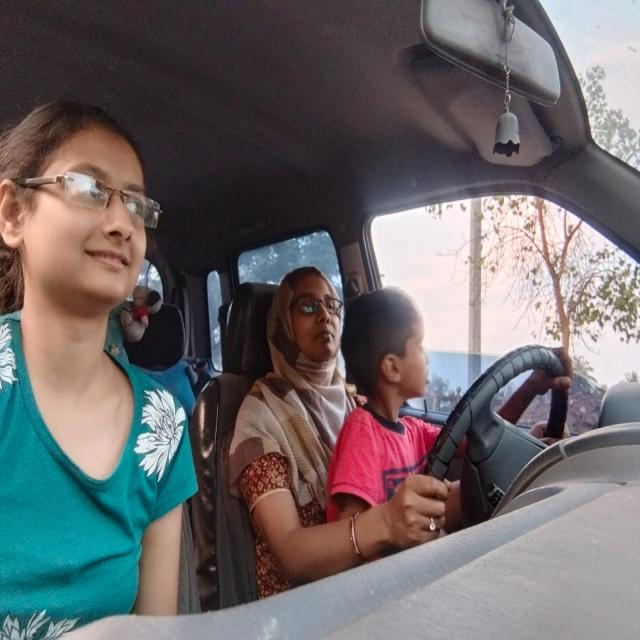child: (346, 282, 445, 440)
person: (0, 100, 165, 338), (272, 260, 352, 382)
